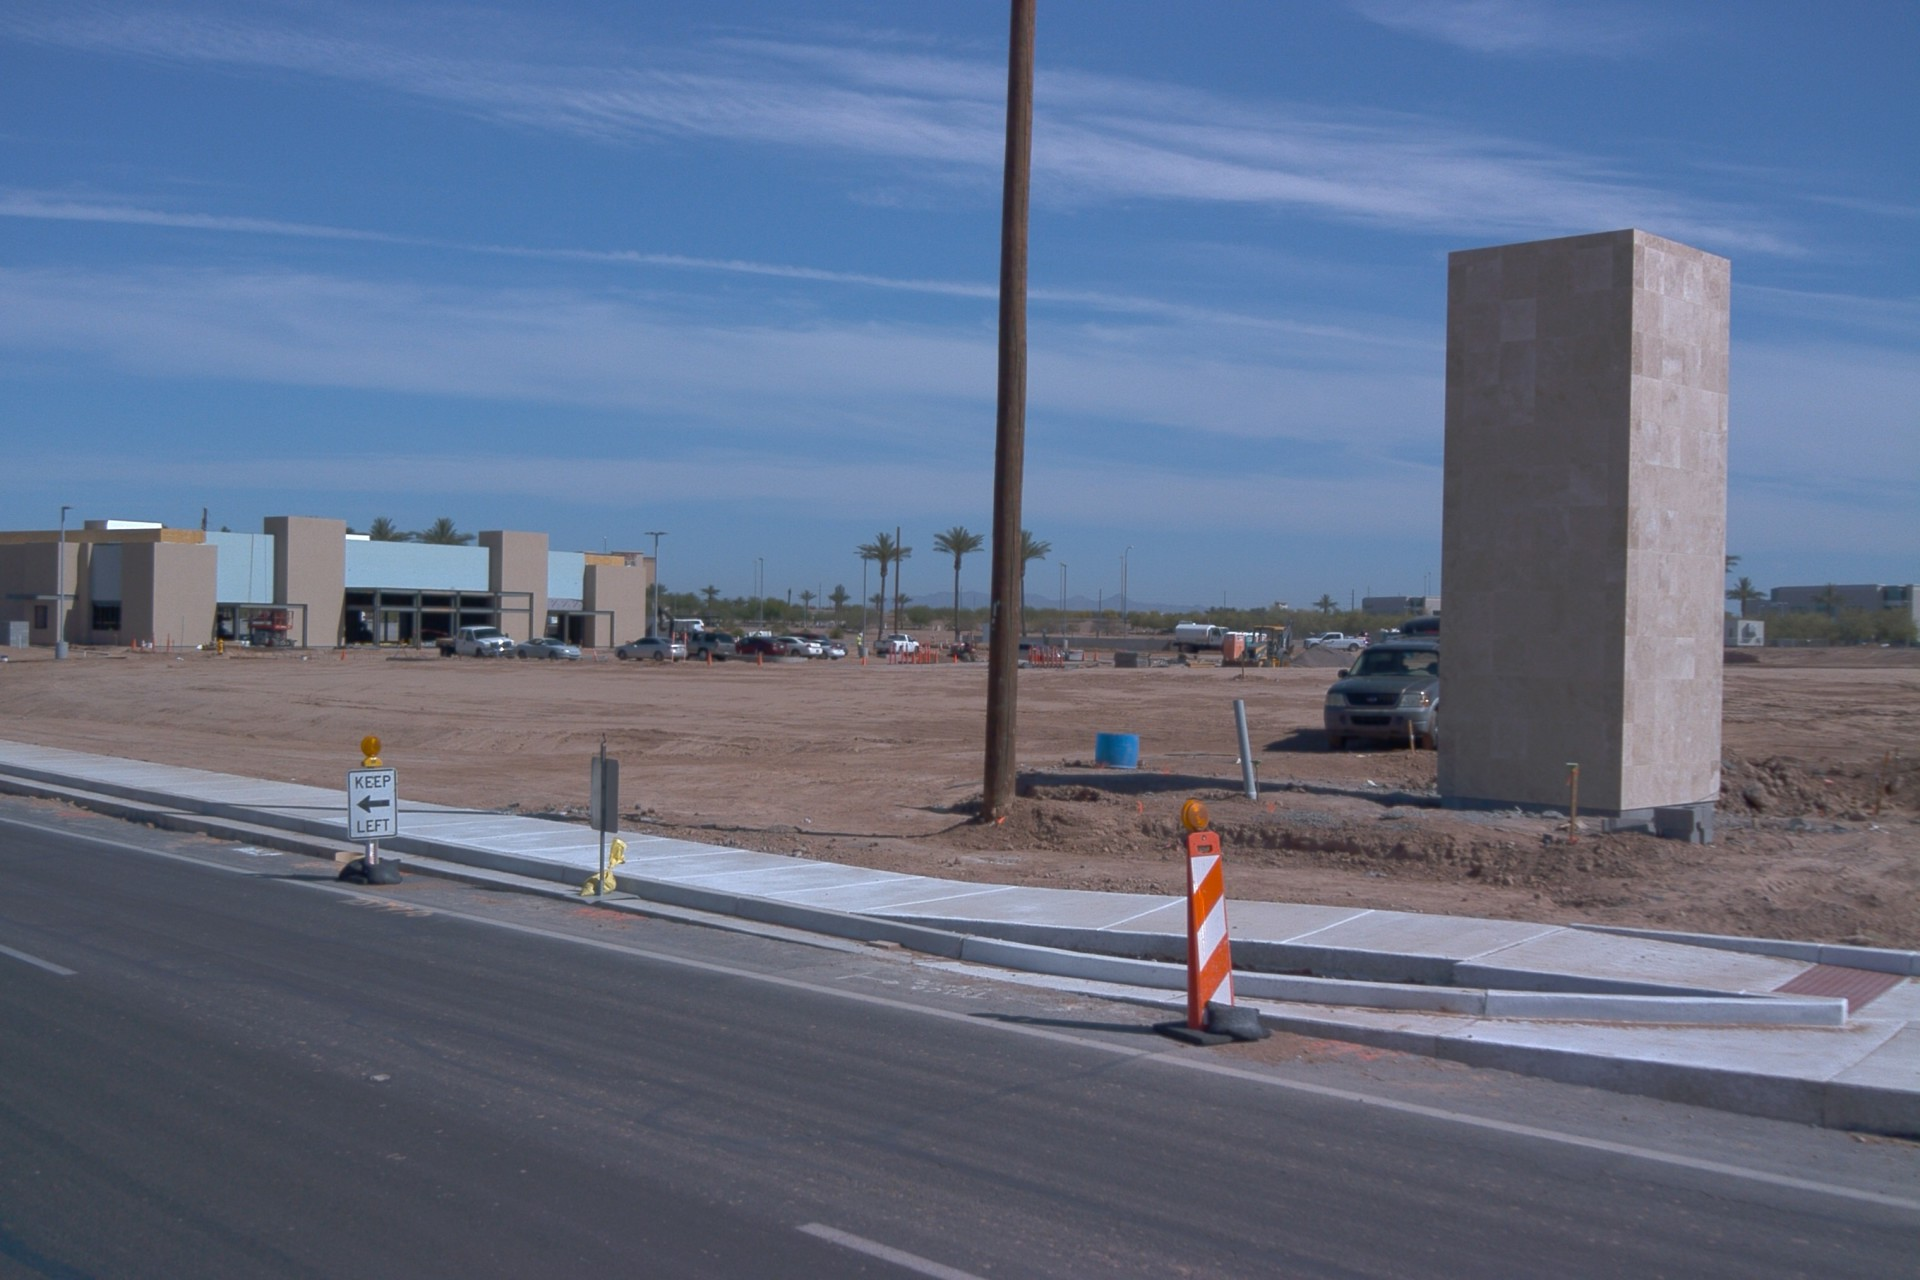TYPE_PEDESTRIAN: (856, 628, 865, 655)
TYPE_VEHICLE: (1320, 635, 1441, 754), (1217, 618, 1296, 668), (428, 621, 512, 660), (669, 624, 735, 665), (613, 633, 689, 662), (1173, 622, 1230, 656), (519, 634, 585, 658), (793, 631, 849, 657), (1300, 630, 1369, 651), (730, 629, 788, 652), (1018, 640, 1071, 662), (873, 633, 923, 656), (662, 617, 707, 642), (773, 634, 822, 656), (811, 634, 850, 658), (744, 631, 773, 641), (359, 612, 366, 622)
